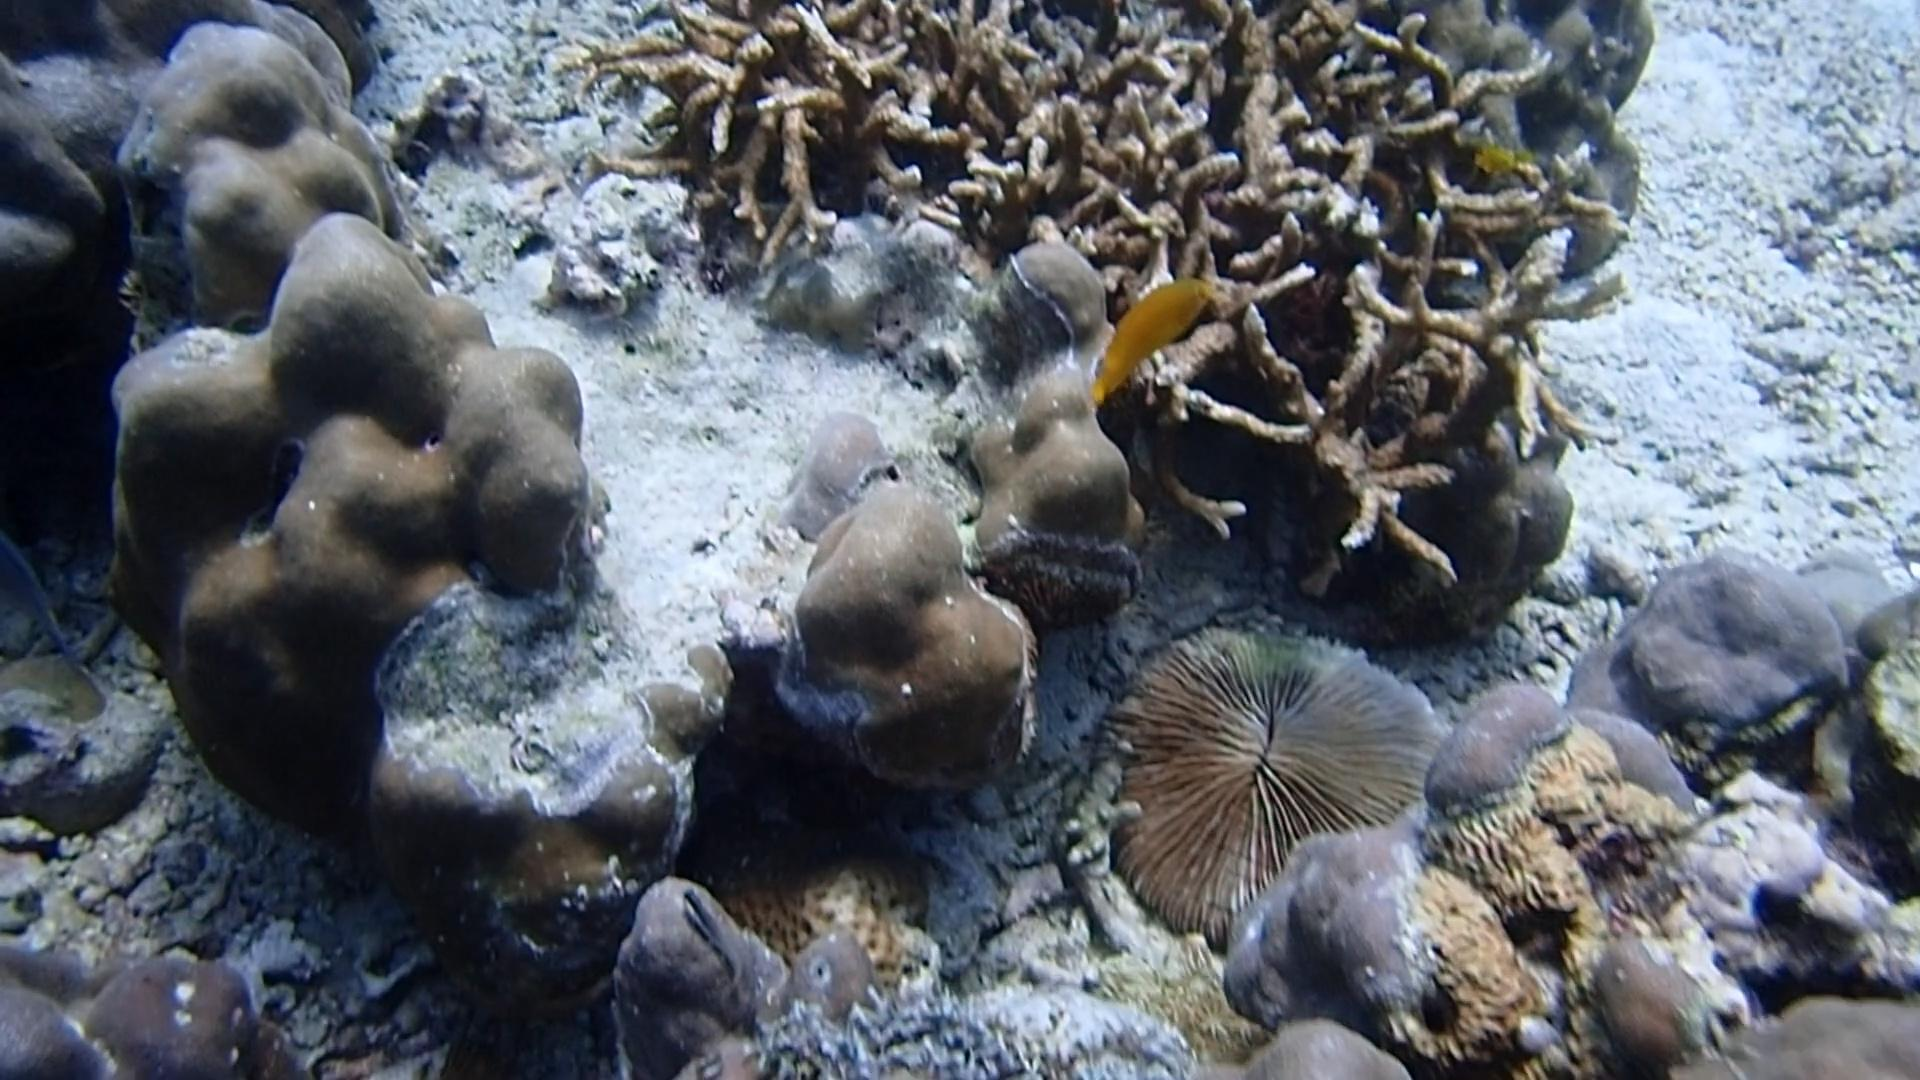Yellow Fish: (1079, 270, 1220, 415), (1465, 136, 1519, 186)
